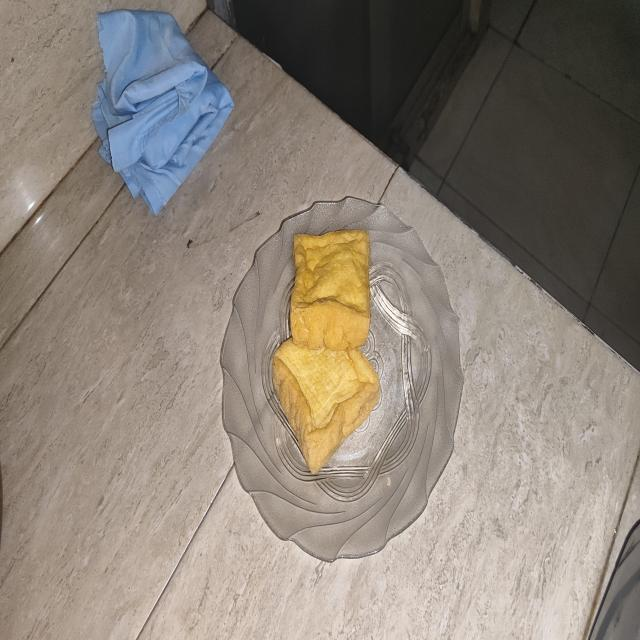tahu_goreng: (272, 338, 380, 473), (290, 230, 370, 350)
